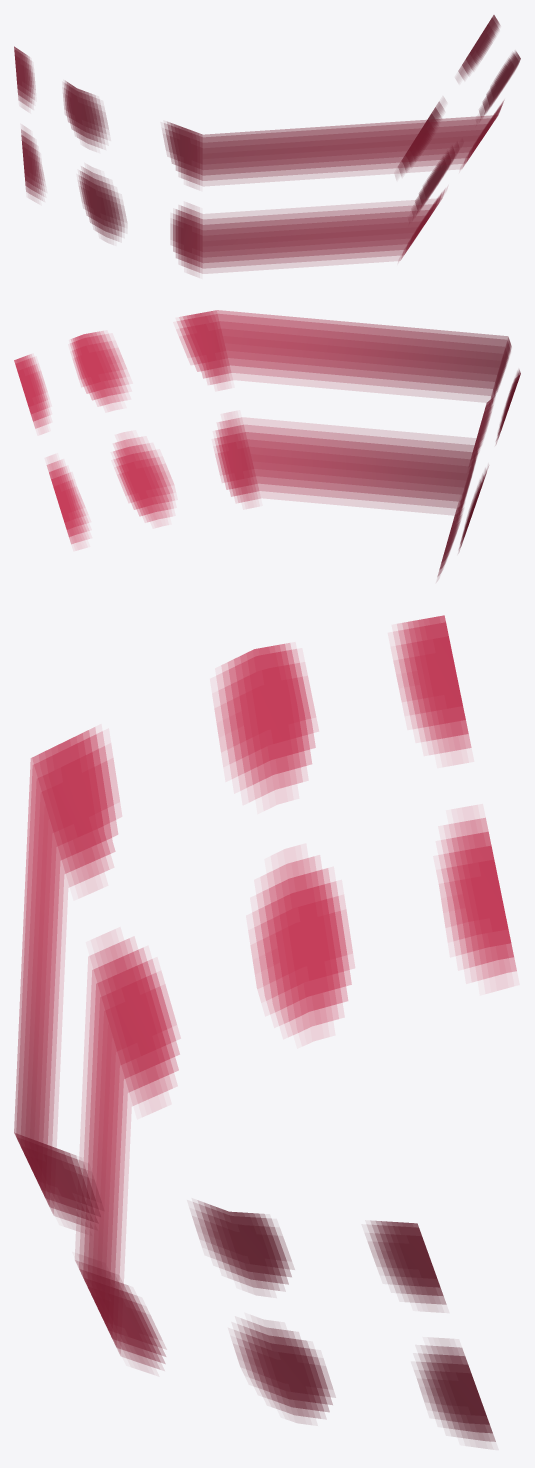
3 renders of one model, top to bottom at view 1: azimuth 30°, elevation 25°; view 2: azimuth 150°, elevation 25°; view 3: azimuth 270°, elevation 25°, orthographic. The views are drawn at different scales.
Visible parts, largest first — view 1: ef_477; view 2: ef_477; view 3: ef_477.
Boxes of the visible parts, <box> form: ef_477: <box>14,15,520,275</box>; ef_477: <box>14,310,520,580</box>; ef_477: <box>14,615,516,1448</box>.
Bounding box in the file's own units: 0.6947 × 0.335 × 0.328.
1 material, 1 textured.
